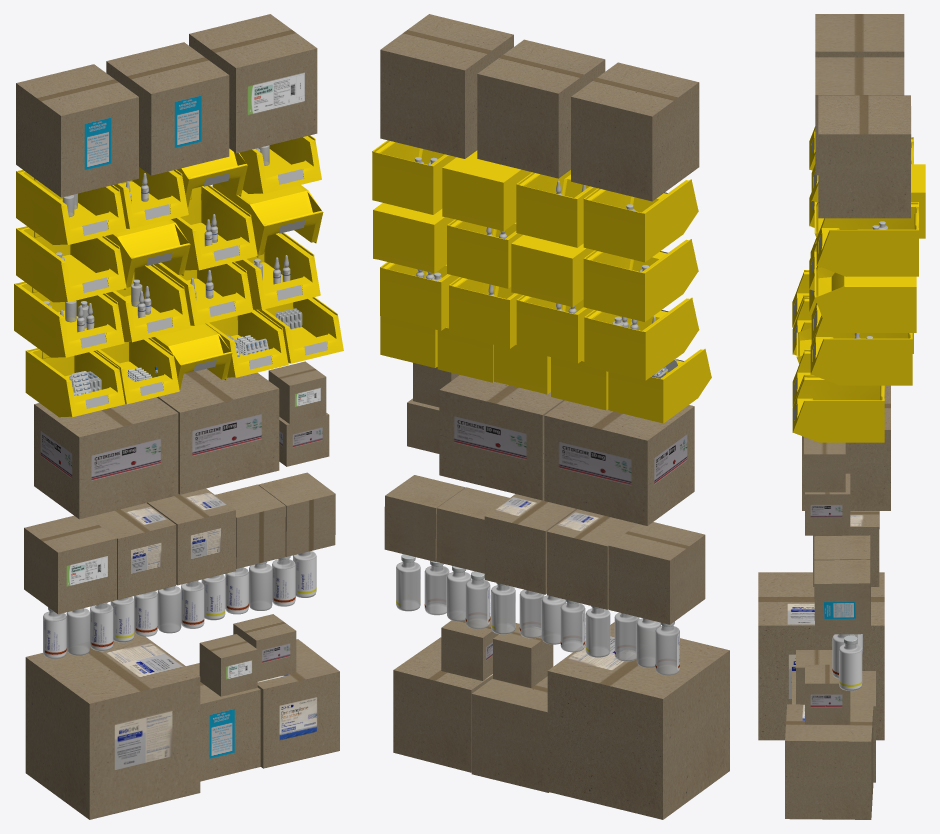
File: chemicalself_4_02.fbx
3 renders of one model, left to right at view 1: azimuth 30°, elevation 25°; view 2: azimuth 150°, elevation 25°; view 3: azimuth 270°, elevation 25°, orthographic. The views are drawn at different scales.
Visible parts, largest first — view 1: pils56, box, box1, nandrolonebox3, pils55, pils54, box2, pils, pils57, pils32, pils53; view 2: pils56, box, box1, nandrolonebox3, pils54, pils55, box2, pils, pils53, pils32, pils57; view 3: pils56, box, box1, pils54, nandrolonebox3, pils55, pils57, pils53, box2, pils32.
Boxes of the visible parts, x1=… form: pils56: x1=25, y1=614, x2=339, y2=819; box: x1=16, y1=14, x2=317, y2=197; box1: x1=34, y1=361, x2=329, y2=519; nandrolonebox3: x1=24, y1=472, x2=335, y2=614; pils55: x1=16, y1=183, x2=323, y2=302; pils54: x1=16, y1=135, x2=321, y2=244; box2: x1=43, y1=551, x2=316, y2=658; pils: x1=14, y1=264, x2=190, y2=357; pils57: x1=151, y1=297, x2=343, y2=389; pils32: x1=25, y1=338, x2=179, y2=417; pils53: x1=154, y1=232, x2=320, y2=325; pils56: x1=393, y1=616, x2=729, y2=819; box: x1=380, y1=14, x2=699, y2=201; box1: x1=407, y1=363, x2=694, y2=525; nandrolonebox3: x1=384, y1=475, x2=705, y2=624; pils54: x1=372, y1=140, x2=698, y2=262; pils55: x1=373, y1=203, x2=698, y2=321; box2: x1=396, y1=554, x2=679, y2=675; pils: x1=516, y1=295, x2=699, y2=380; pils53: x1=380, y1=262, x2=522, y2=348; pils32: x1=551, y1=348, x2=711, y2=423; pils57: x1=380, y1=316, x2=550, y2=394; pils56: x1=758, y1=572, x2=884, y2=819; box: x1=815, y1=14, x2=910, y2=218; box1: x1=802, y1=385, x2=890, y2=535; pils54: x1=809, y1=106, x2=925, y2=276; nandrolonebox3: x1=813, y1=511, x2=879, y2=634; pils55: x1=809, y1=192, x2=916, y2=332; pils57: x1=792, y1=327, x2=885, y2=442; pils53: x1=810, y1=303, x2=913, y2=385; box2: x1=832, y1=634, x2=862, y2=690; pils32: x1=792, y1=270, x2=812, y2=355.
Bounding box in the file's own units: 99.69 × 236 × 52.53.
Materials: 16 (11 with a texture image).
